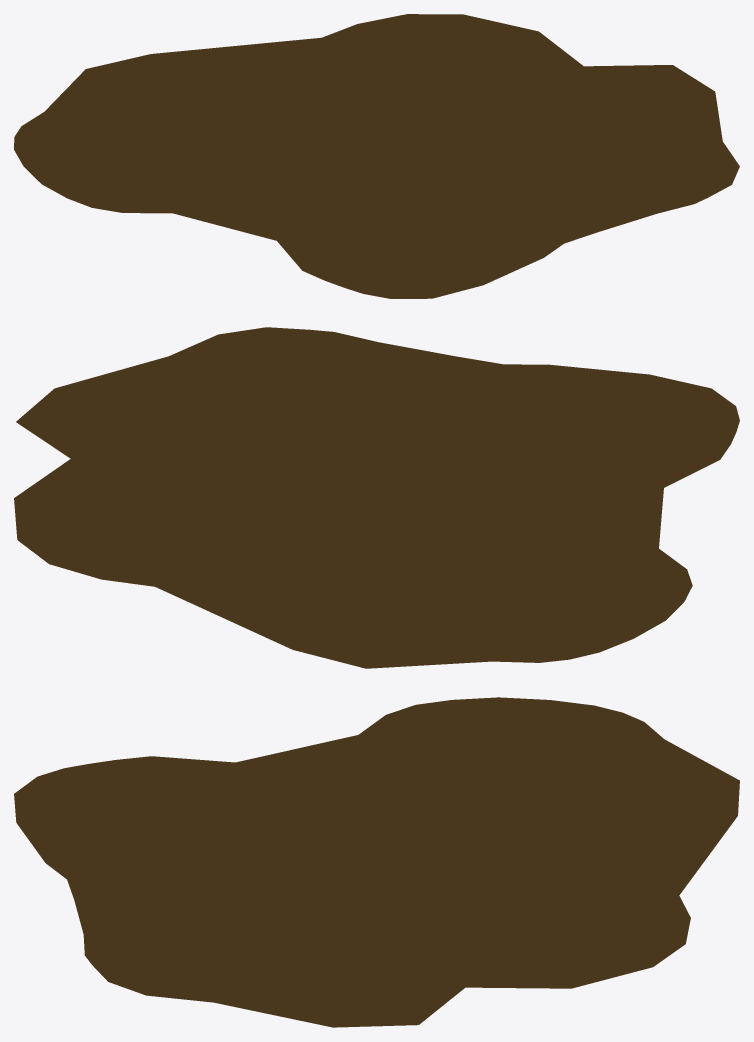
File: mud_3.fbx
3 views of the same model, one above another, from view 1: azimuth 30°, elevation 25°; view 2: azimuth 150°, elevation 25°; view 3: azimuth 270°, elevation 25° (orthographic). The views are drawn at different scales.
Parts seen in each view (by area): view 1: mud_3; view 2: mud_3; view 3: mud_3.
Boxes of the visible parts, x1,y1,x2,y2 form: mud_3: (14, 14, 739, 298); mud_3: (14, 327, 739, 668); mud_3: (14, 697, 739, 1027).
Size of the model in its own units: 239 by 3.62e-05 by 222.
